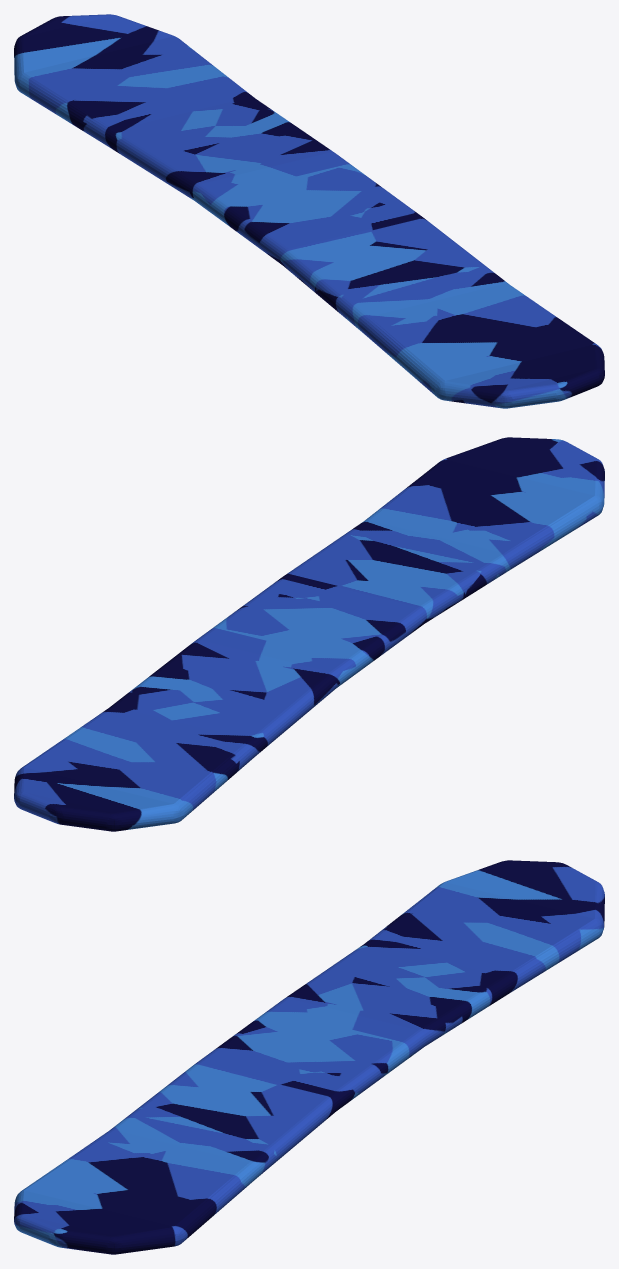
The model's file is Snowboard.fbx.
The picture shows the model from 3 angles, top to bottom: view 1: azimuth 30°, elevation 25°; view 2: azimuth 150°, elevation 25°; view 3: azimuth 330°, elevation 25°; orthographic projection.
Parts seen in each view (by area): view 1: Circle; view 2: Circle; view 3: Circle.
Part boxes in pixels (left/top/right/bottom): Circle: left=14, top=14, right=604, bottom=408; Circle: left=14, top=437, right=604, bottom=831; Circle: left=14, top=860, right=604, bottom=1254.
Bounding box in the file's own units: 94.99 × 14.31 × 505.
1 material, 1 textured.
